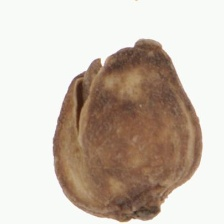L1: (74, 37, 108, 128), (109, 187, 170, 223)
L2: (53, 38, 204, 223)
